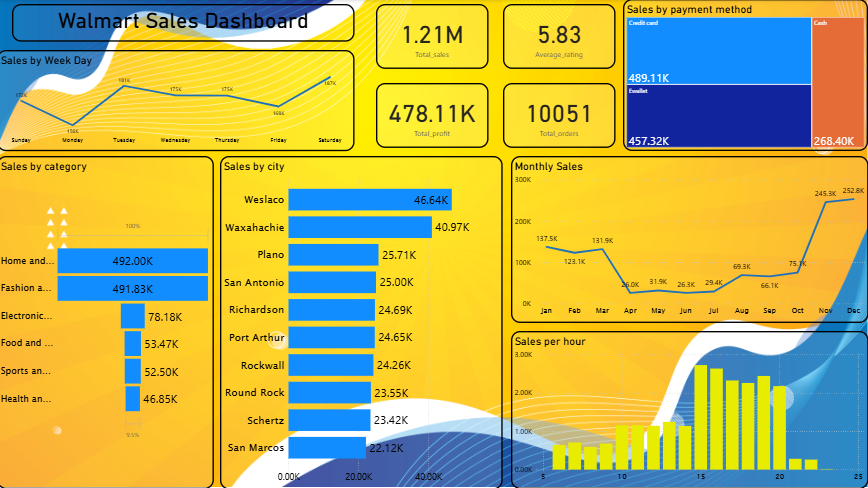

What the dashboard file says about the page in this screenshot:
{"tool":"powerbi","page":{"name":"Page 1","canvas":[1920,1080],"ordinal":0},"visuals":[{"type":"card","fields":{"Values":["Walmart.Total_sales"]},"box":[835,10,247.5,142.5],"z":0},{"type":"card","fields":{"Values":["Walmart.Total_profit"]},"box":[835,185,247.5,142.5],"z":1000},{"type":"card","fields":{"Values":["Walmart.Total_orders"]},"box":[1115,185,247.5,142.5],"z":2000},{"type":"card","fields":{"Values":["Walmart.Average_rating"]},"box":[1115,10,247.5,142.5],"z":3000},{"type":"funnel","title":"Sales by category","fields":{"Category":["Walmart.category"],"Y":["Sum(Walmart.total price)"]},"box":[0,346,478,734],"z":4000},{"type":"lineChart","title":"Monthly Sales","fields":{"Y":["Sum(Walmart.total price)"],"Category":["Walmart.Month Name.1"]},"box":[1132.5,345,787.5,367.5],"z":5000},{"type":"treemap","title":"Sales by payment method","fields":{"Group":["Walmart.payment_method"],"Values":["Sum(Walmart.total price)"]},"box":[1380,0,540,335],"z":6000},{"type":"columnChart","title":"Sales per hour","fields":{"Y":["Sum(Walmart.quantity)"],"Category":["Walmart.Hour"]},"box":[1132.5,732.5,787.5,347.5],"z":7000},{"type":"textbox","box":[32.5,10,755,82.5],"z":8000},{"type":"barChart","title":"Sales by city","fields":{"Category":["Walmart.City"],"Y":["Sum(Walmart.total price)"]},"box":[492.5,345,622.5,735],"z":9000},{"type":"lineChart","title":"Sales by Week Day","fields":{"Category":["Walmart.Day Name"],"Y":["Sum(Walmart.total price)"]},"box":[0,112.5,787.5,222.5],"z":10000}]}

Visuals, with their boxes in screenshot pixels (x1, y1, x2, y2), scaled from the page's 1920x1080 canvas onto the 868x488 screenshot:
card - Walmart.Total_sales: <box>377,5,489,69</box>
card - Walmart.Total_profit: <box>377,84,489,148</box>
card - Walmart.Total_orders: <box>504,84,616,148</box>
card - Walmart.Average_rating: <box>504,5,616,69</box>
"Sales by category" funnel: <box>0,156,216,487</box>
"Monthly Sales" lineChart: <box>512,156,867,322</box>
"Sales by payment method" treemap: <box>624,0,867,151</box>
"Sales per hour" columnChart: <box>512,331,867,487</box>
textbox: <box>15,5,356,42</box>
"Sales by city" barChart: <box>223,156,504,487</box>
"Sales by Week Day" lineChart: <box>0,51,356,151</box>
